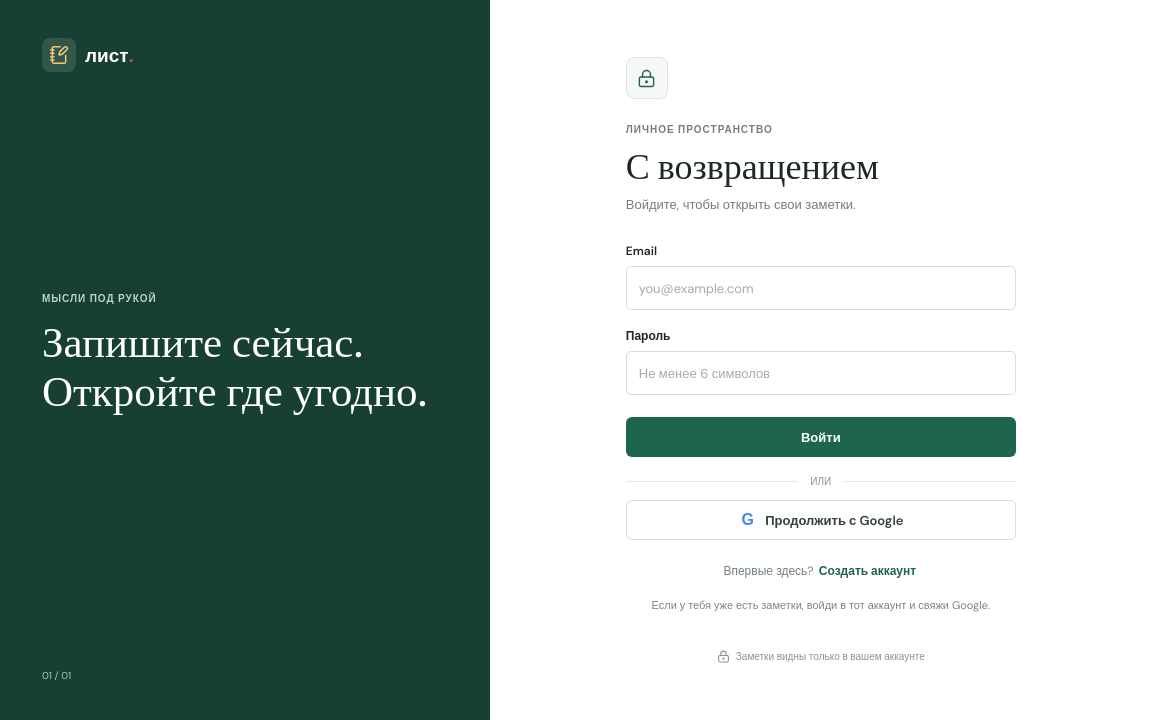
Scenario: notes app › saves a note and displays it in the list
Type "reader@example.com" into the field labelled "Email". click: point(821, 288)
box: top-left (626, 266), bottom-right (1016, 310)
Type "not-a-real-password" into the password field labelled "Пароль". click: point(821, 374)
box: top-left (626, 352), bottom-right (1016, 396)
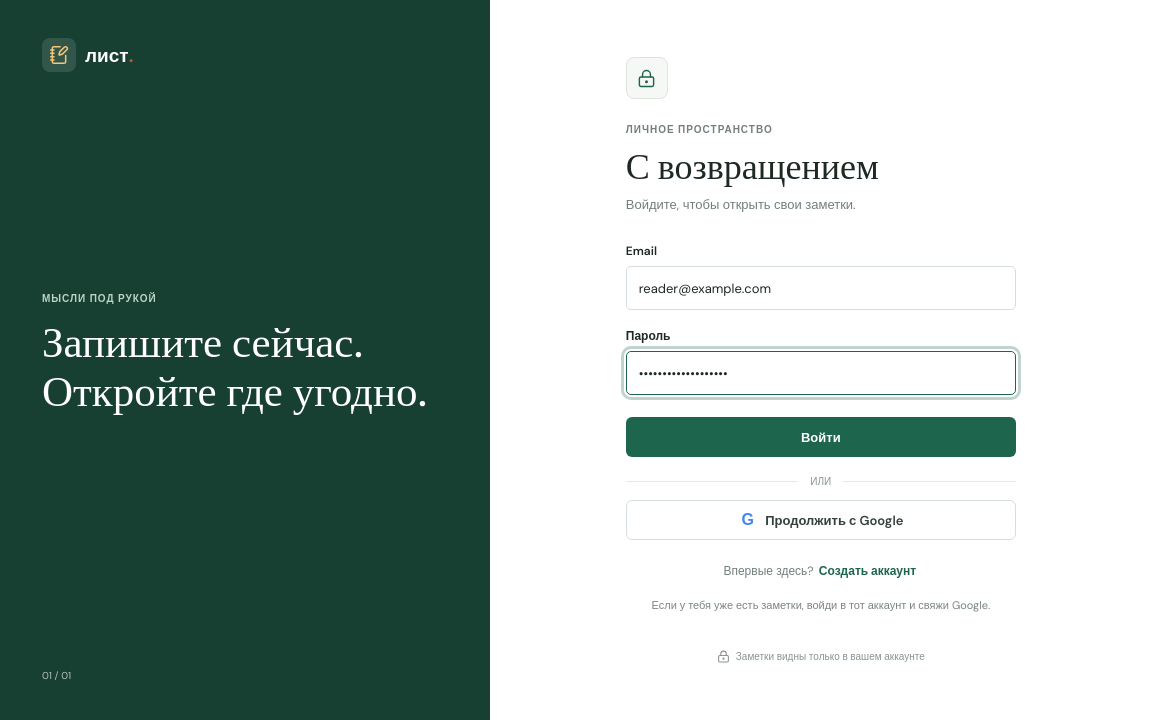
Click the button "Войти". click: point(821, 438)
box: top-left (626, 418), bottom-right (1016, 458)
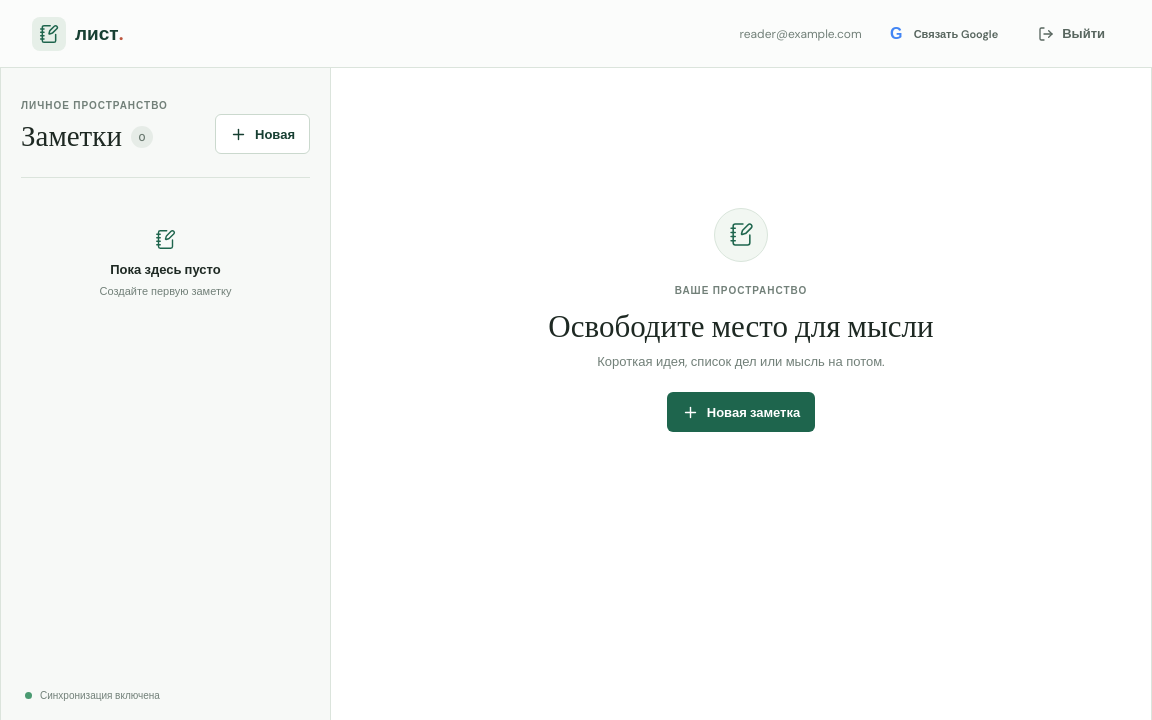
Expected: the text "Синхронизация включена" is shown, top-left (25, 689), bottom-right (160, 702)
Click the button "Новая заметка". click: point(741, 412)
box: top-left (667, 392), bottom-right (815, 432)
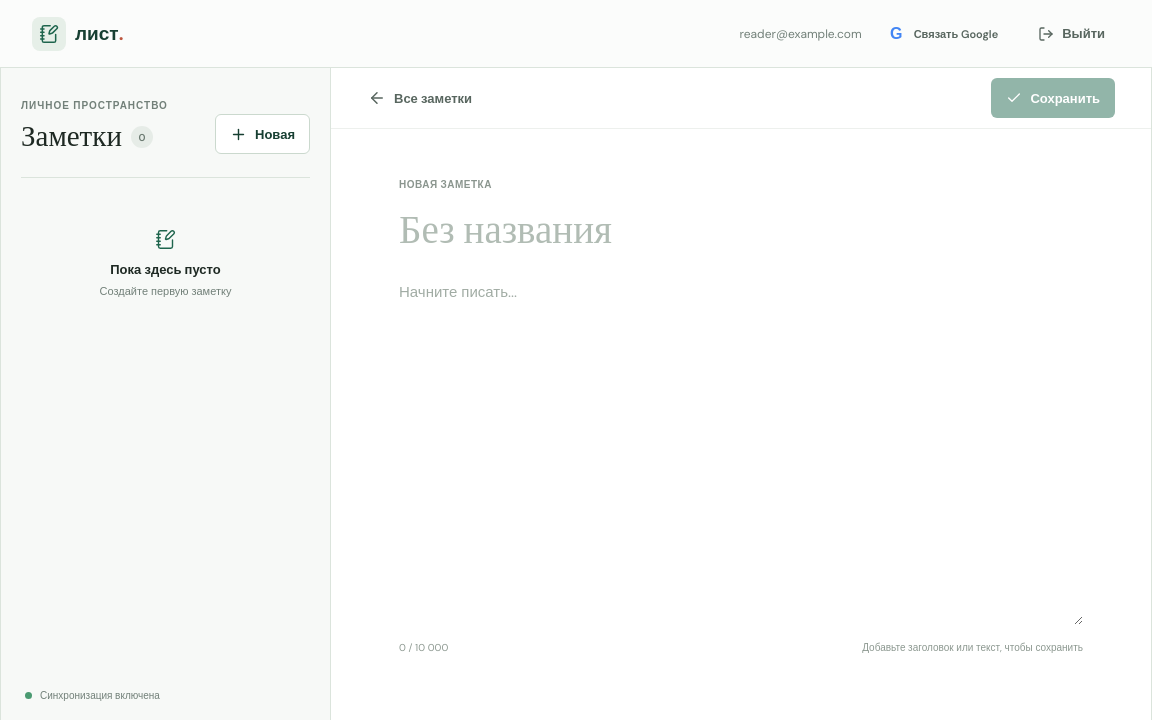
Type "Идея" into the field named "Заголовок заметки". click: point(741, 234)
box: top-left (399, 211), bottom-right (1083, 257)
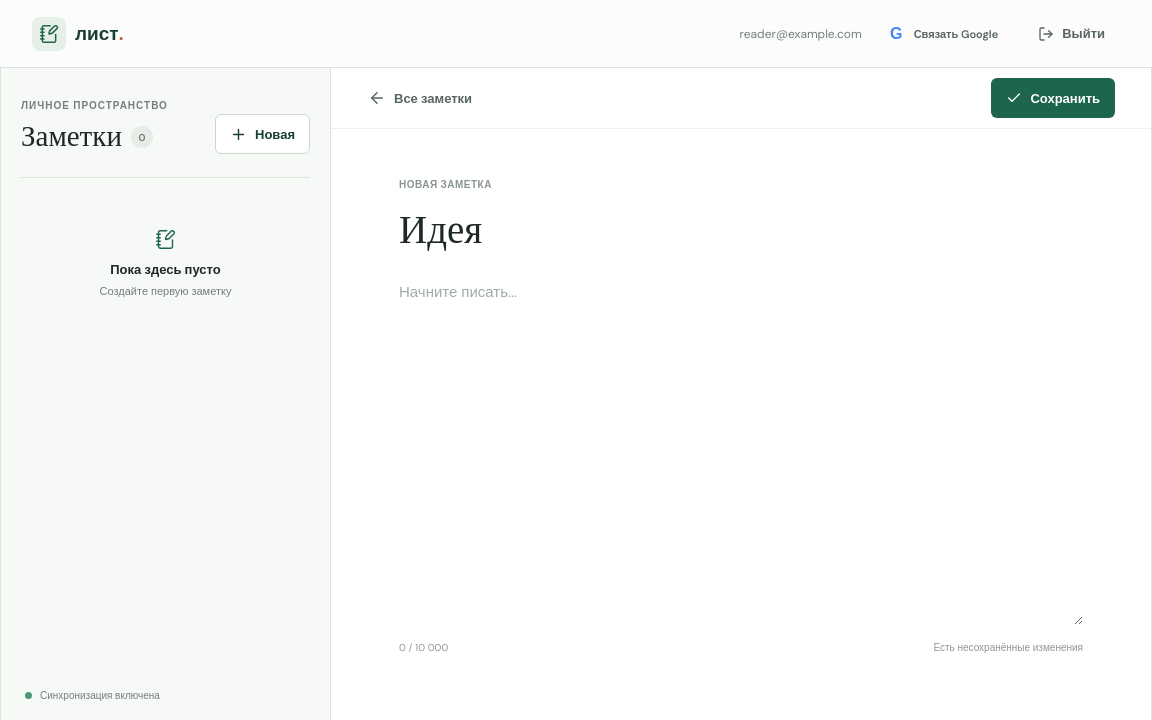
Type "Текст для проверки" into the text box named "Текст заметки". click: point(741, 452)
box: top-left (399, 279), bottom-right (1083, 625)
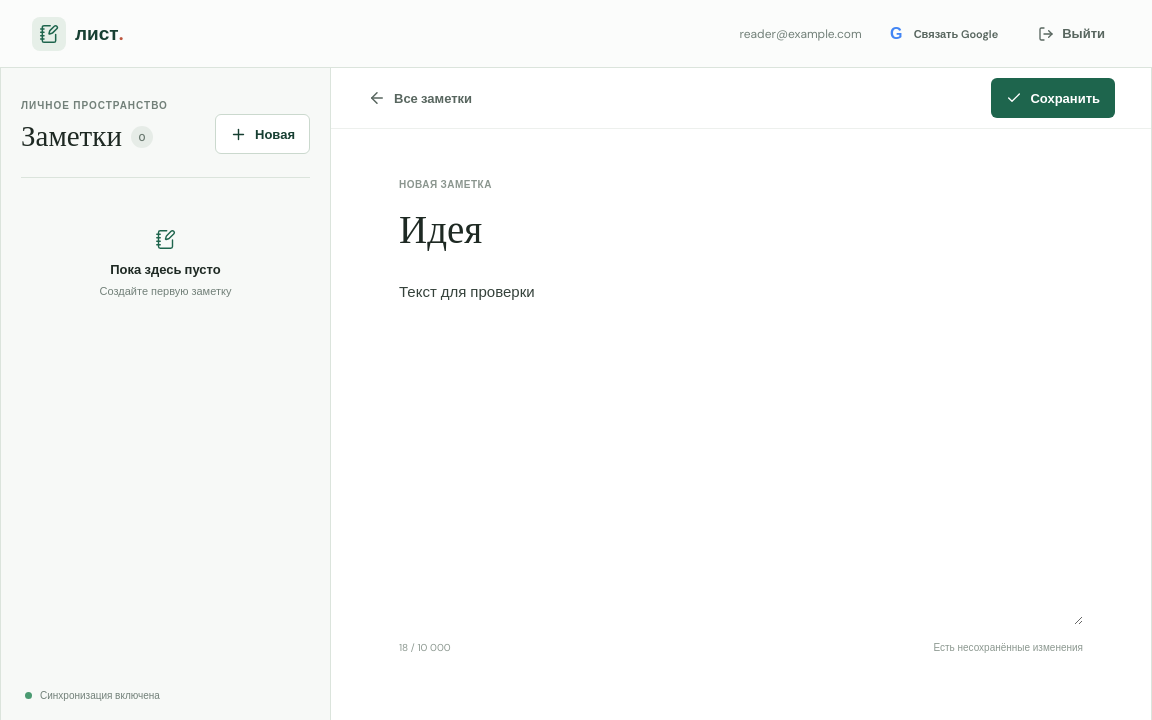
Click the button "Сохранить". click: point(1053, 98)
box: top-left (991, 78), bottom-right (1115, 118)
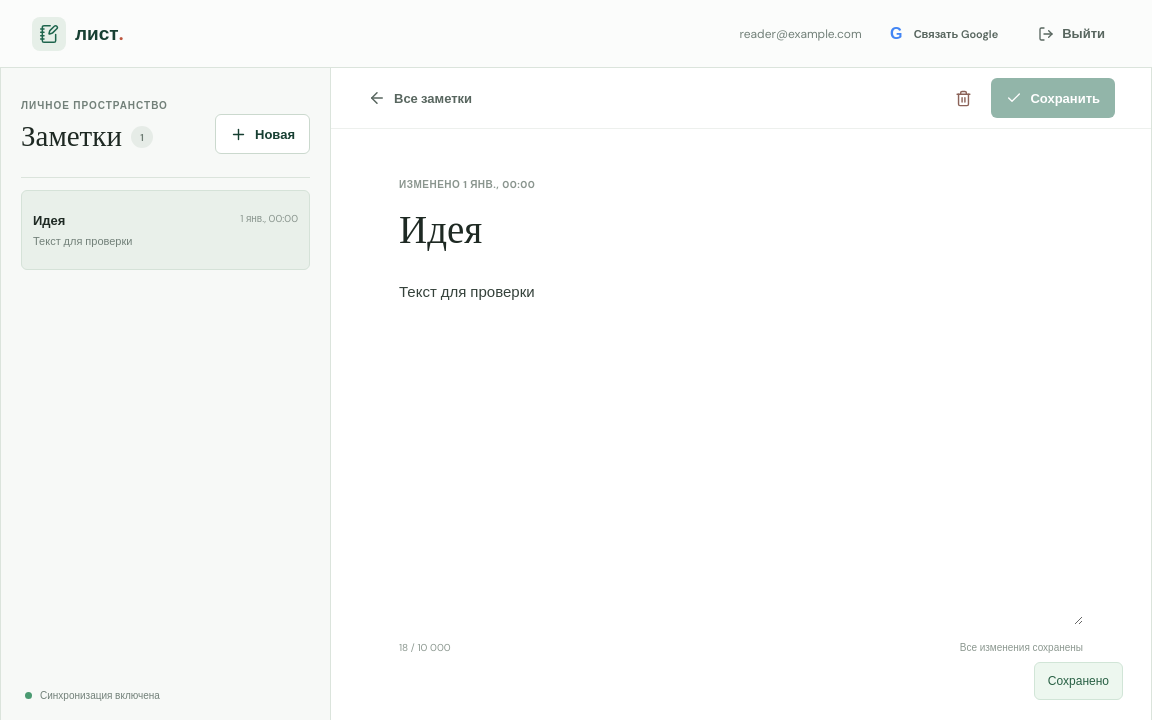
Expected: the button "Идея" is shown, top-left (21, 190), bottom-right (310, 270)
Expected: the text "Сохранено" is shown, top-left (1034, 662), bottom-right (1123, 700)
